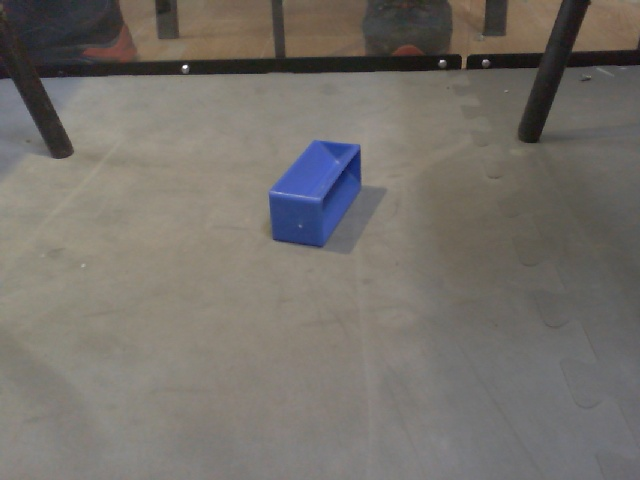BlueSample: (265, 140, 370, 254)
